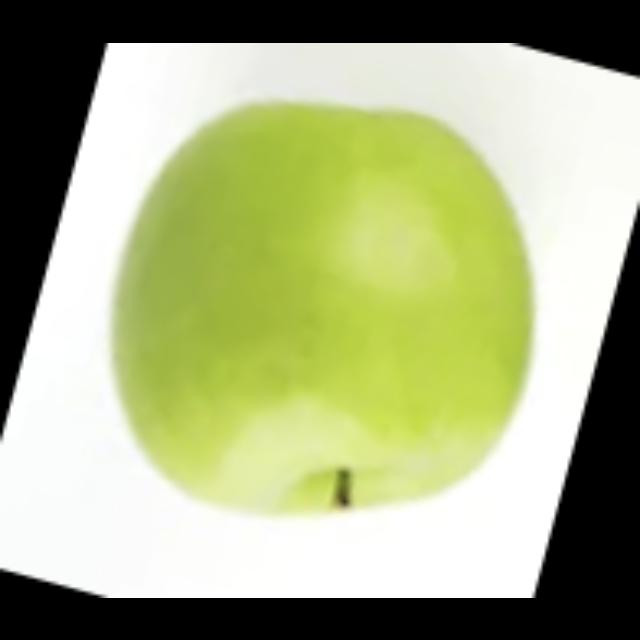Apel Segar: (101, 86, 543, 528)
